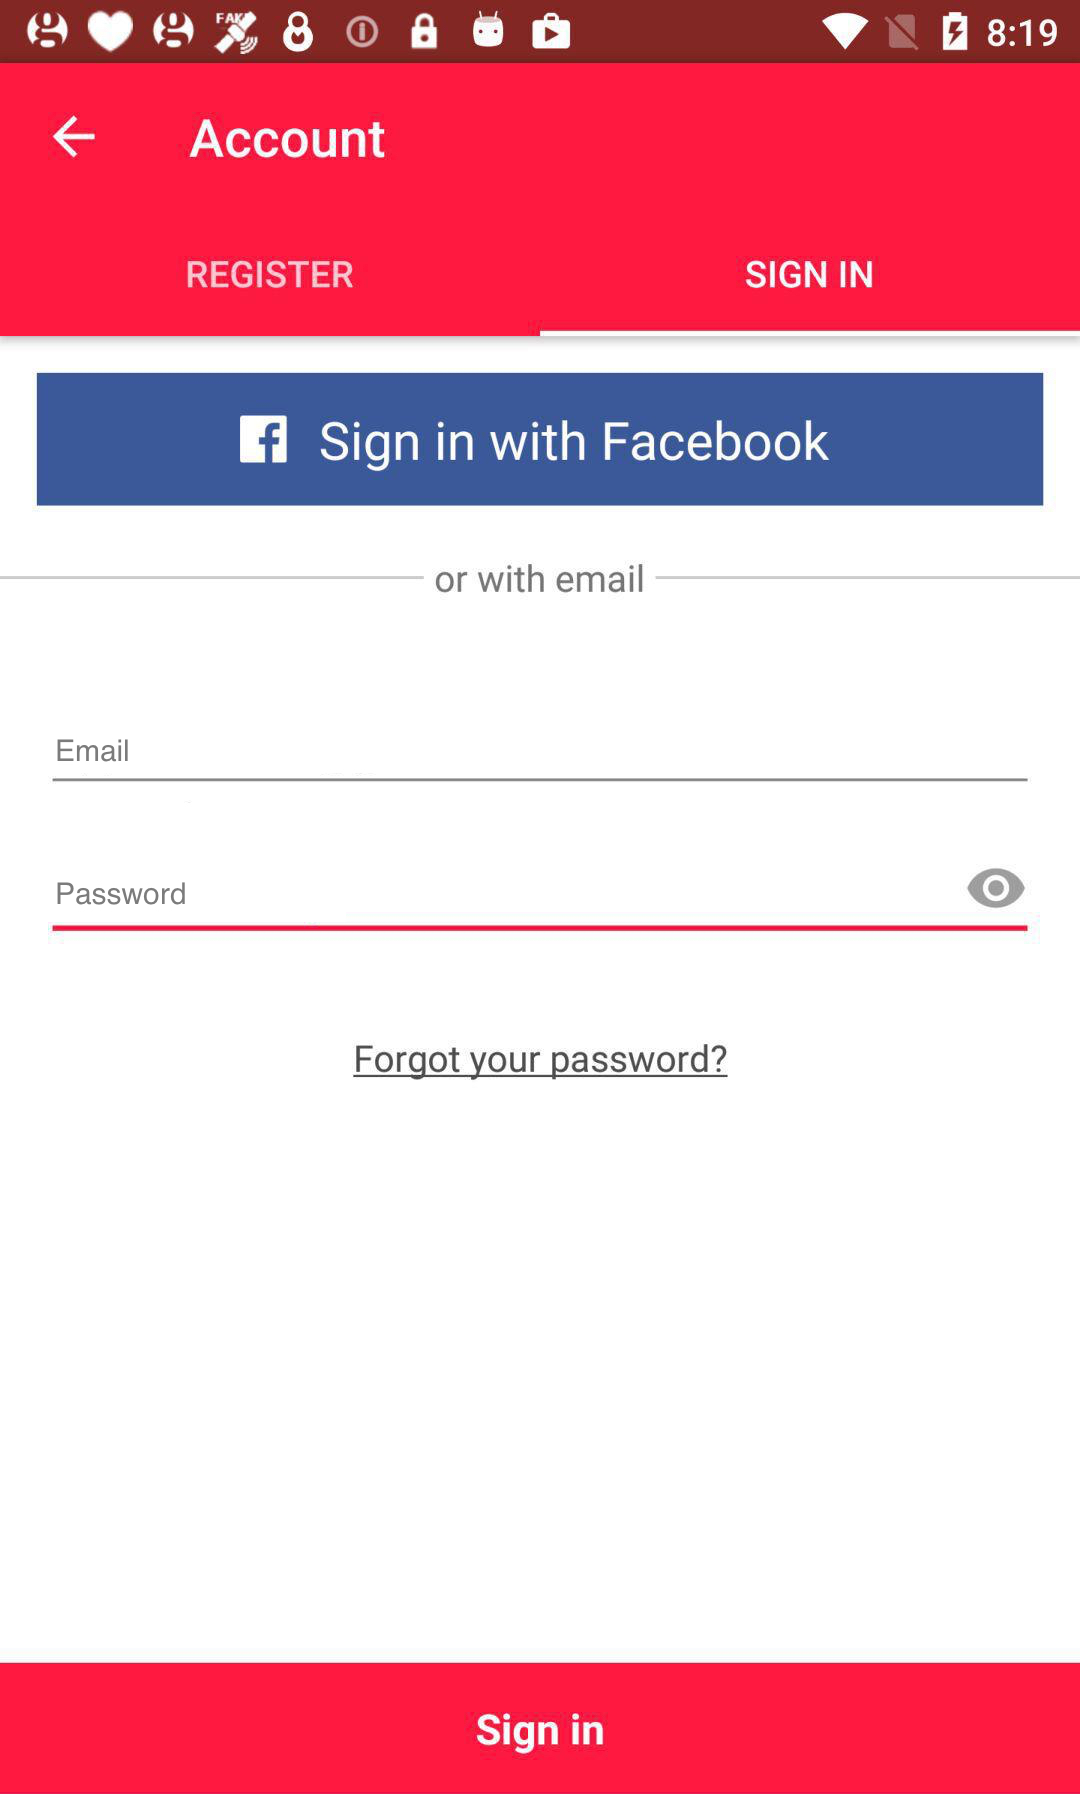EditText: (53, 868, 1029, 932), (53, 738, 1029, 783)
Icon: (966, 868, 1026, 909), (53, 115, 97, 160)
Multi_Tab: (1, 220, 1080, 340)
Text: (354, 1042, 729, 1082), (190, 118, 386, 160), (436, 563, 644, 595), (187, 260, 354, 290), (744, 260, 874, 290), (58, 882, 187, 906), (56, 737, 129, 762)
TextButton: (1, 1663, 1080, 1794), (38, 373, 1043, 506)
Toolbar: (1, 64, 1080, 220)
UpperTaskBar: (1, 1, 1080, 64)
